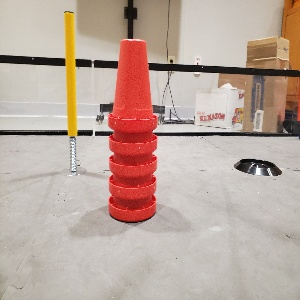Red_5: (101, 34, 162, 224)
